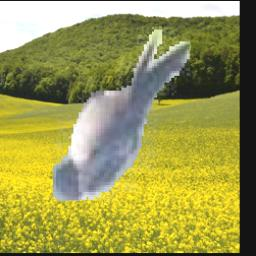Swallow: (54, 28, 192, 202)
